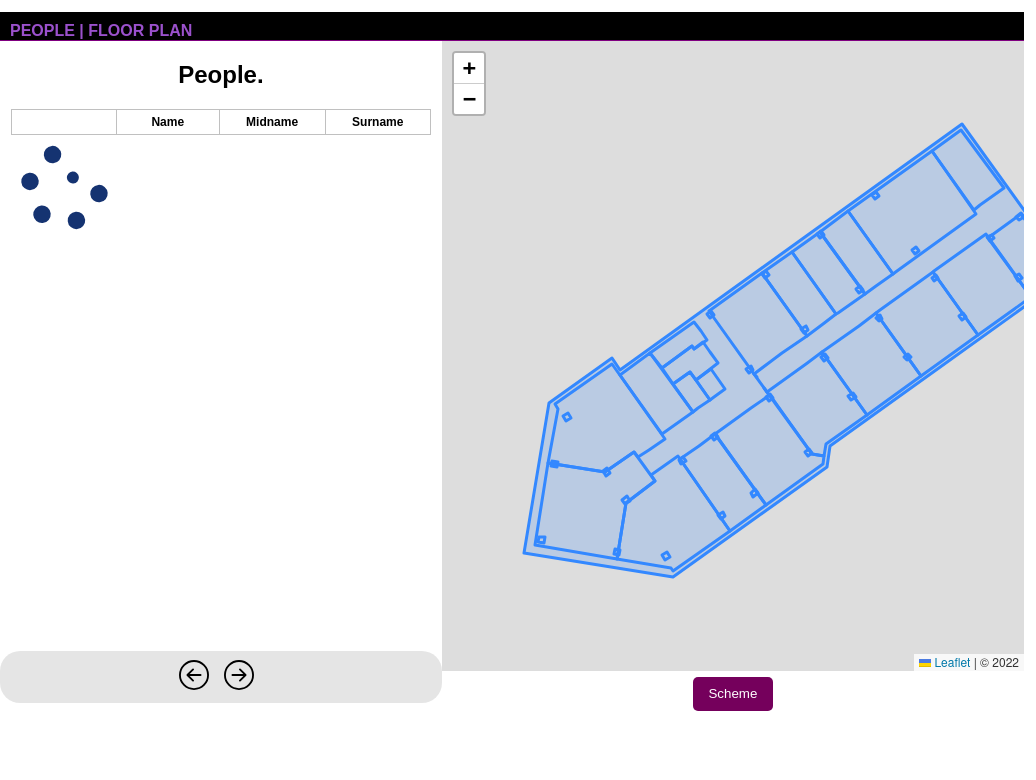
App E2E › Should click Scheme button
Step 1. Click the button "Scheme" → coordinates (733, 694), box [693, 677, 773, 711]
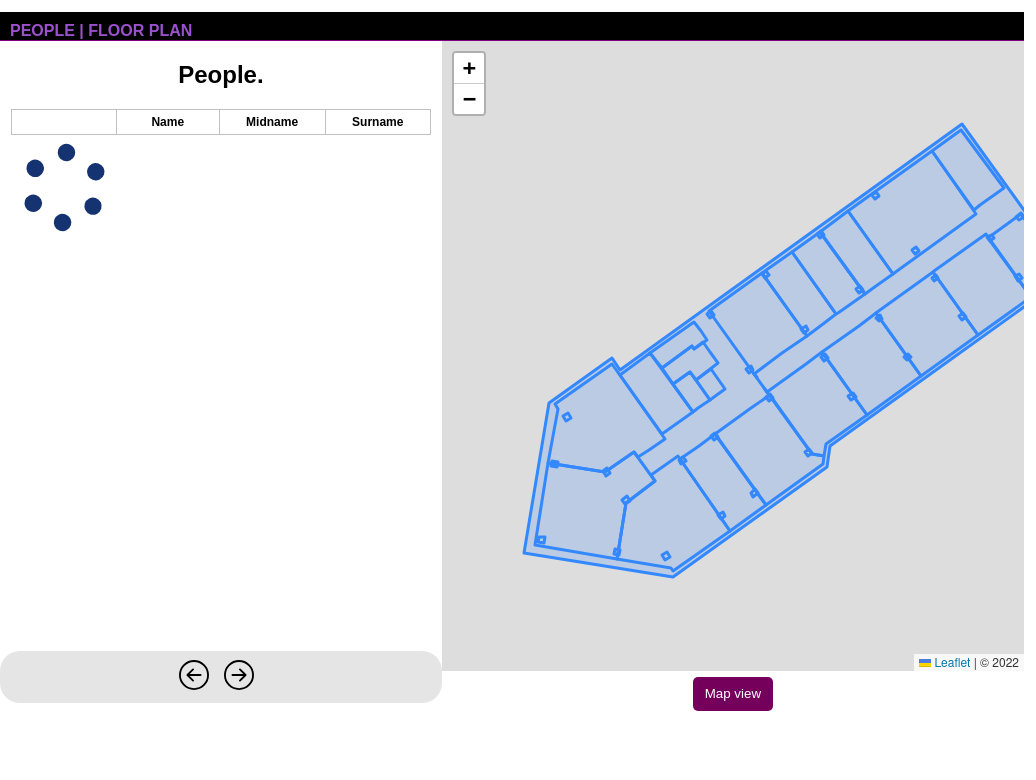
Now the button "Map view" is shown, box [693, 677, 773, 711]
